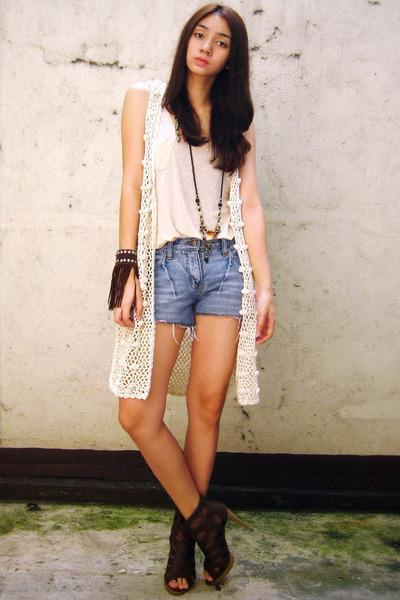Shorts: (146, 242, 245, 332)
vest: (152, 90, 239, 250)
